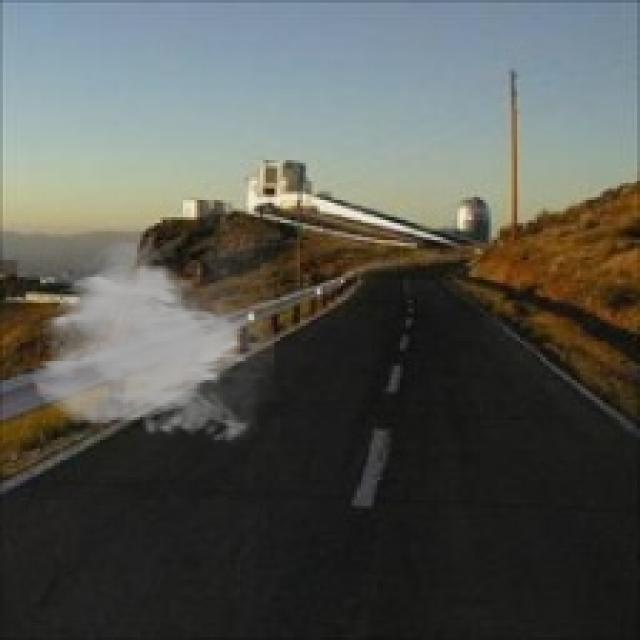smoke: (29, 234, 274, 449)
